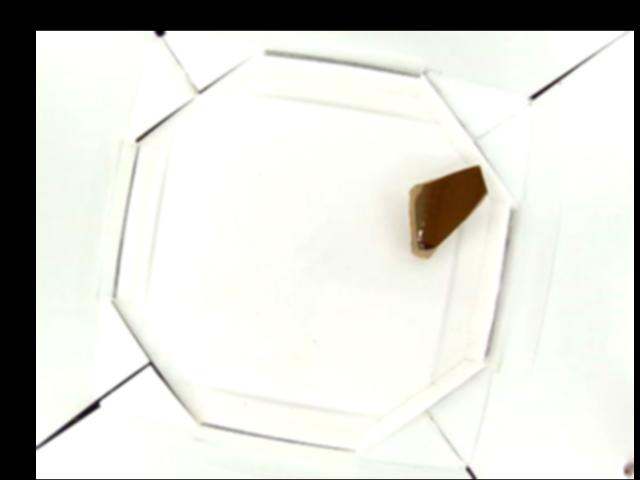China: (402, 163, 491, 261)
